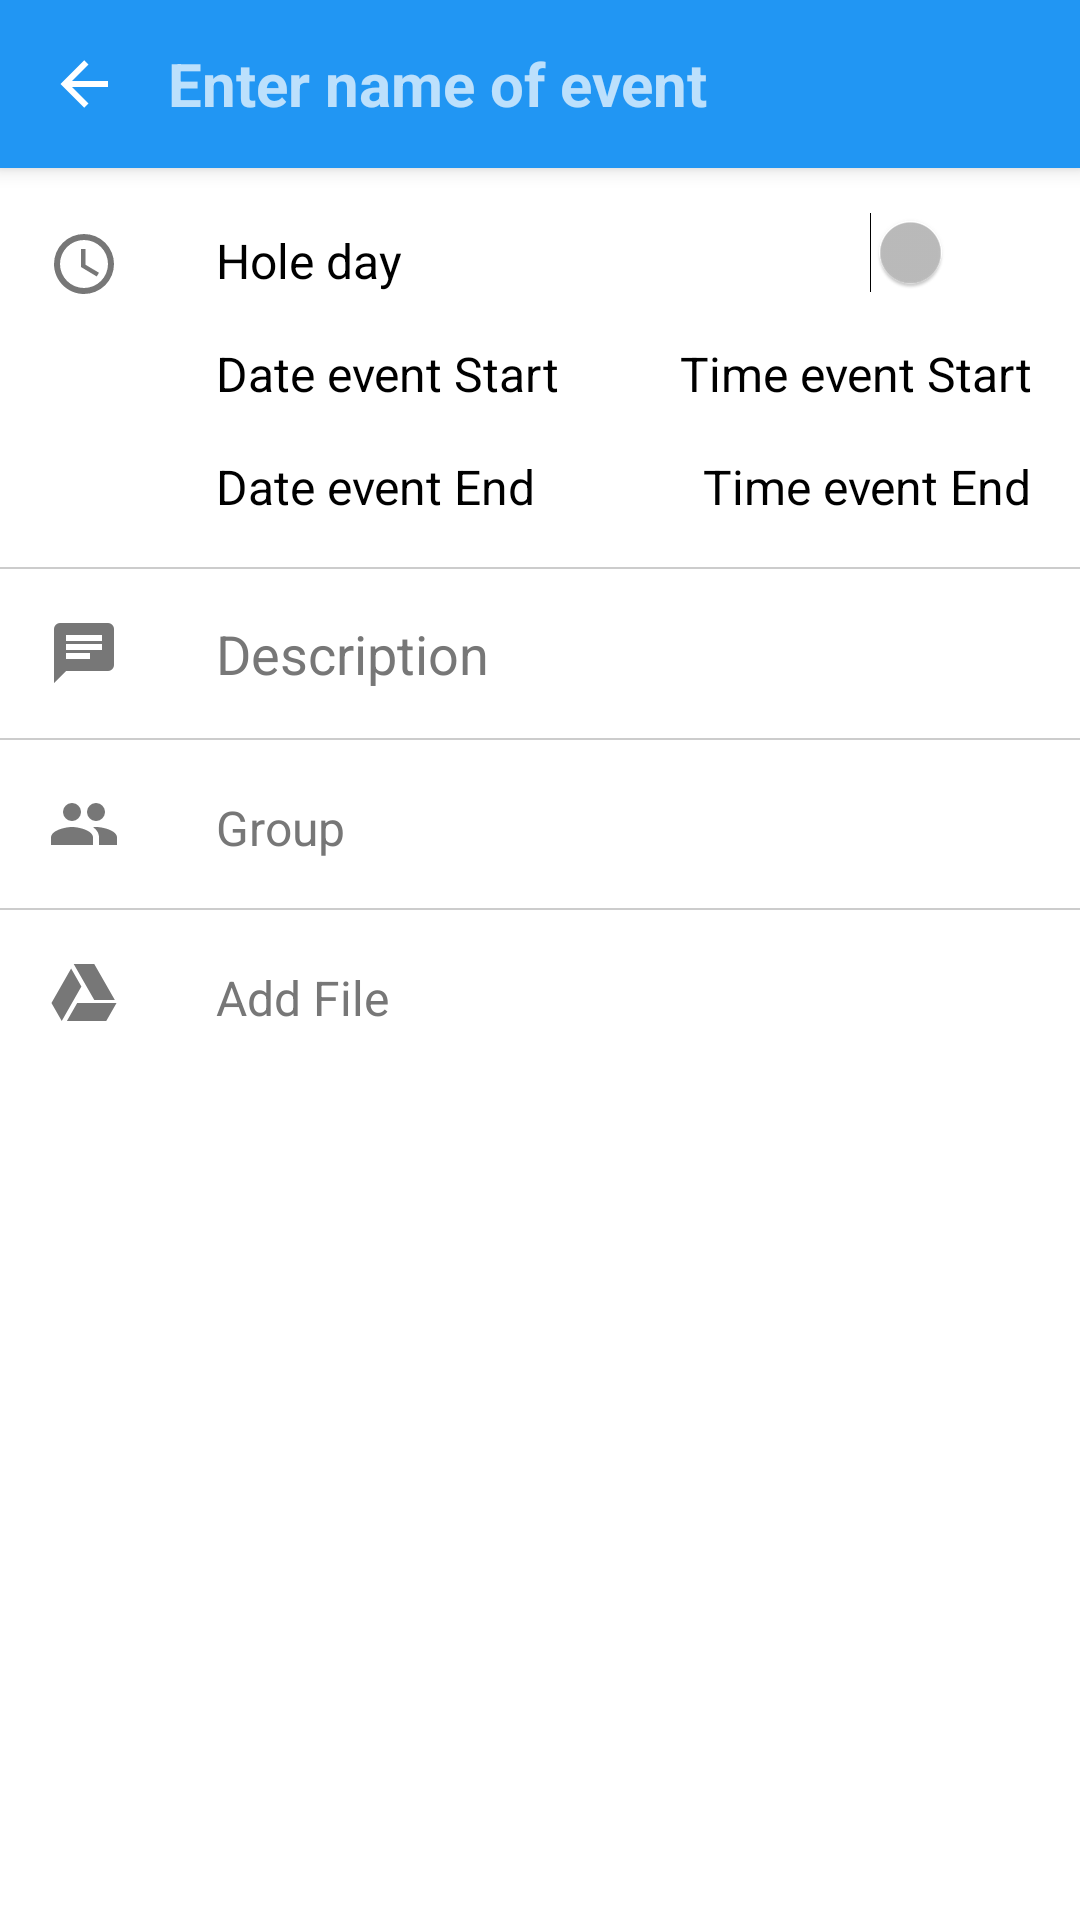

Locate icon controls on the screen. Image size 1080*1920, boxes as BBox(x1, y1, x2, y2).
account: BBox(51, 803, 117, 845)
arrow left: BBox(60, 60, 108, 108)
clock: BBox(54, 234, 114, 294)
message: BBox(54, 623, 114, 683)
